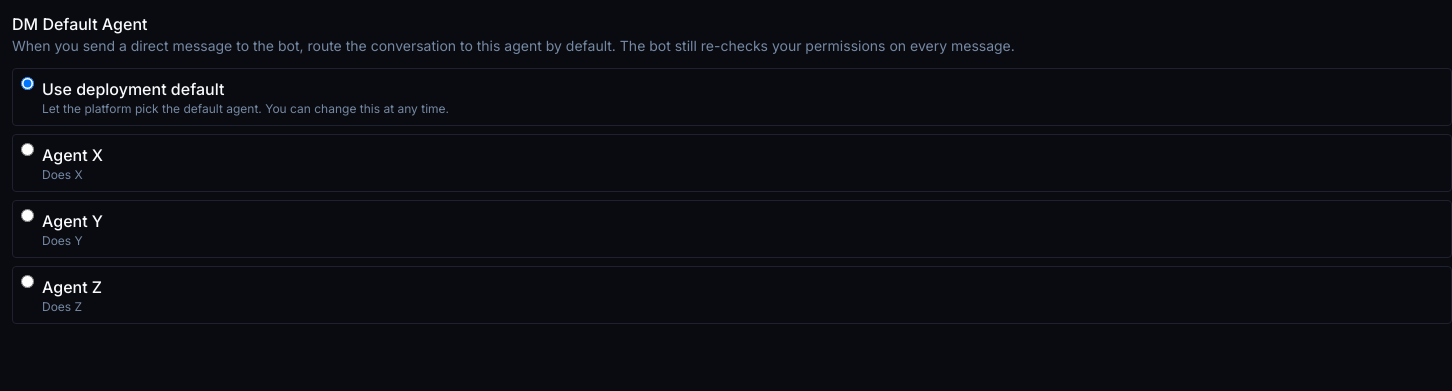
Test case: DmAgentPreferencePanel › surfaces a friendly error if saving fails
The width and height of the screenshot is (1452, 391).
Expected: the text "Agent X" is shown, [42,143,103,167]
Click the radio button labelled "Agent X Does X": (28, 150) [21,143,34,156]
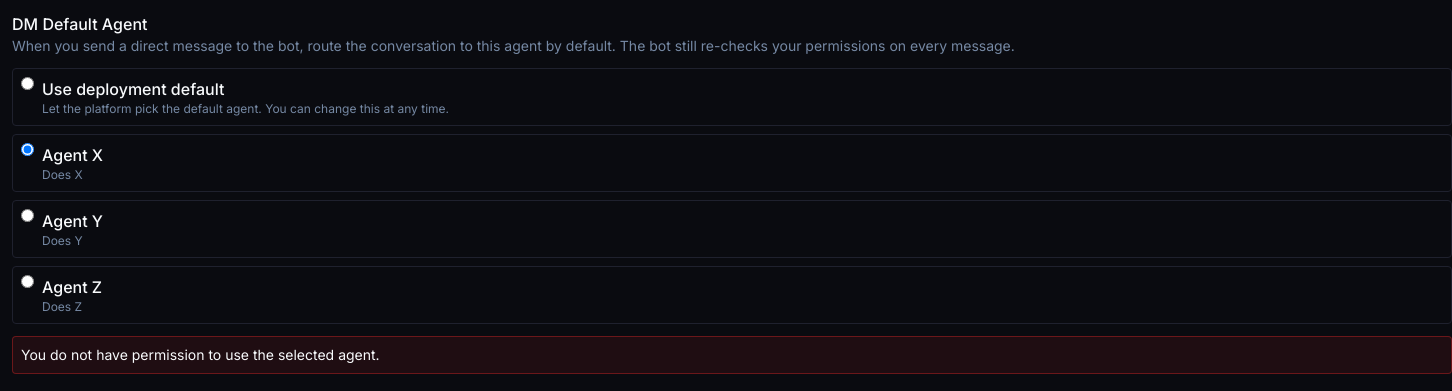
Now the text "You do not have permission to use the selected agent." is shown, box [12,336,1451,374]
